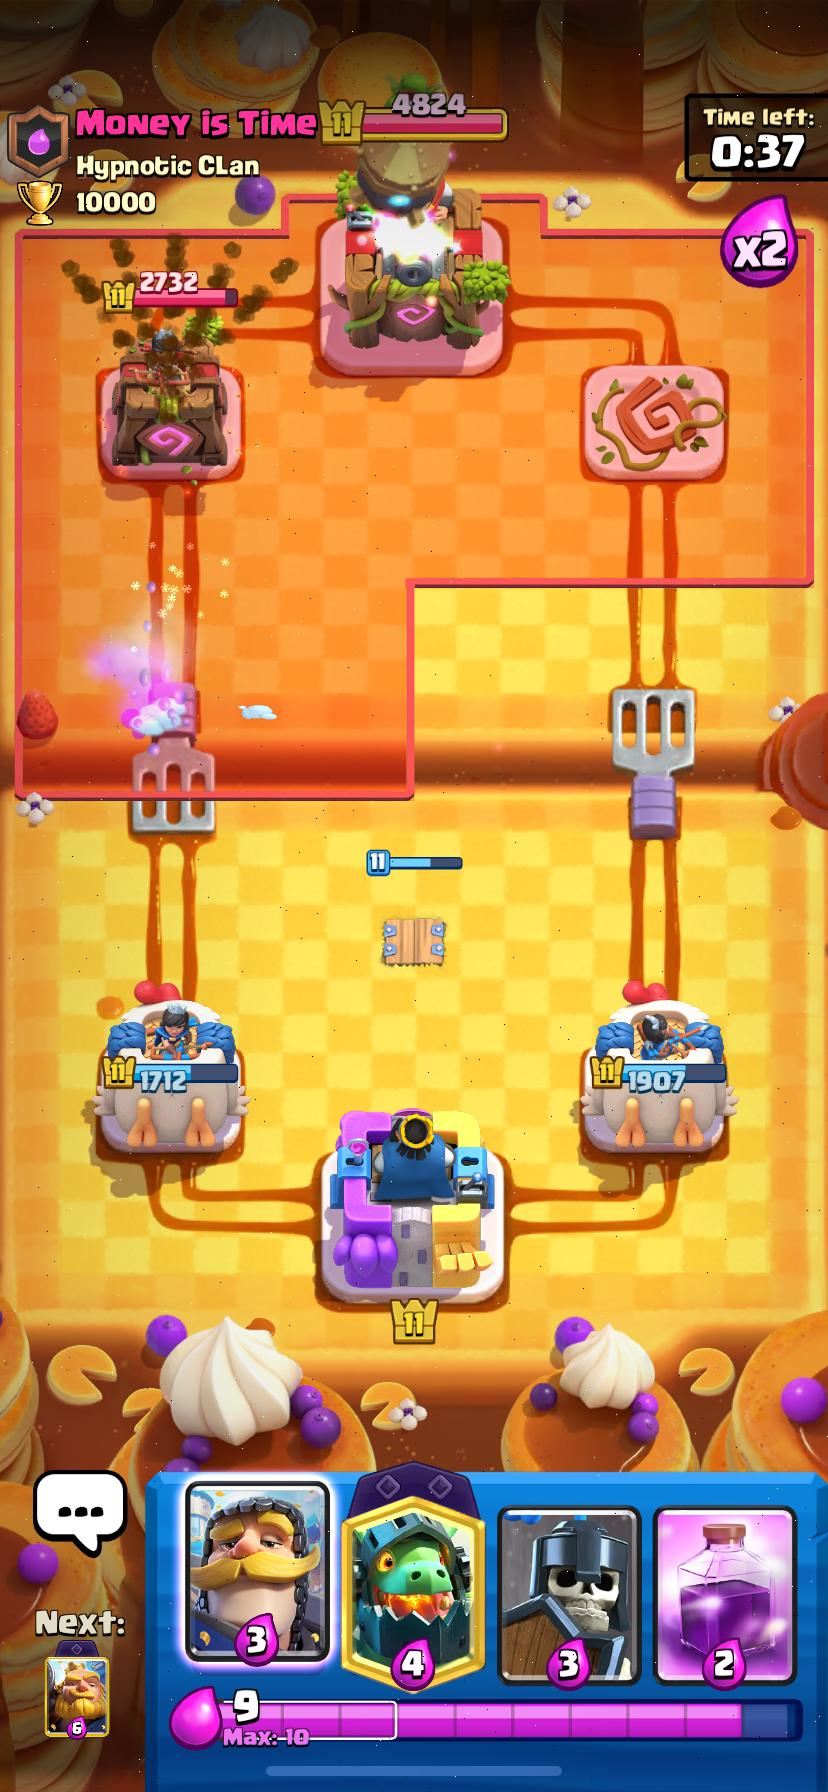EKingTower: (345, 203, 484, 349)
ERocket: (357, 141, 449, 216)
EnemyPrincessTower: (108, 329, 238, 481)
OTesla: (383, 917, 444, 966)
OwnKingTower: (321, 1109, 503, 1305)
OwnPrincessTower: (580, 982, 735, 1154), (93, 983, 248, 1152)
TowerDown: (583, 363, 725, 481)
